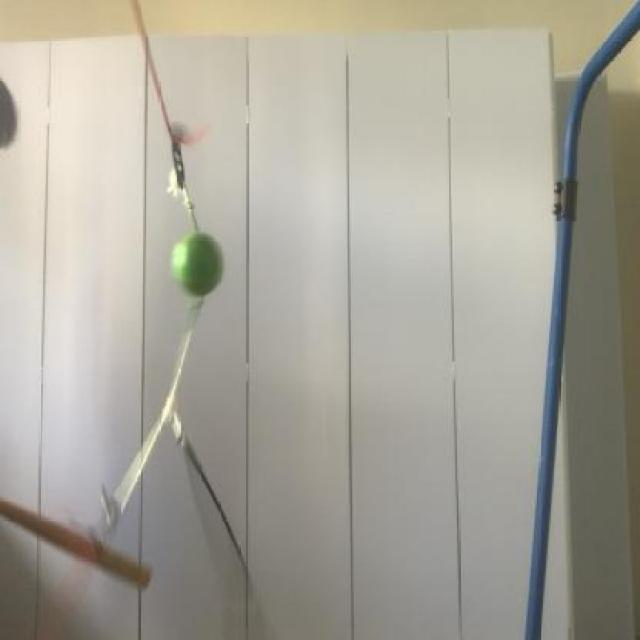baseball: (161, 223, 237, 308)
